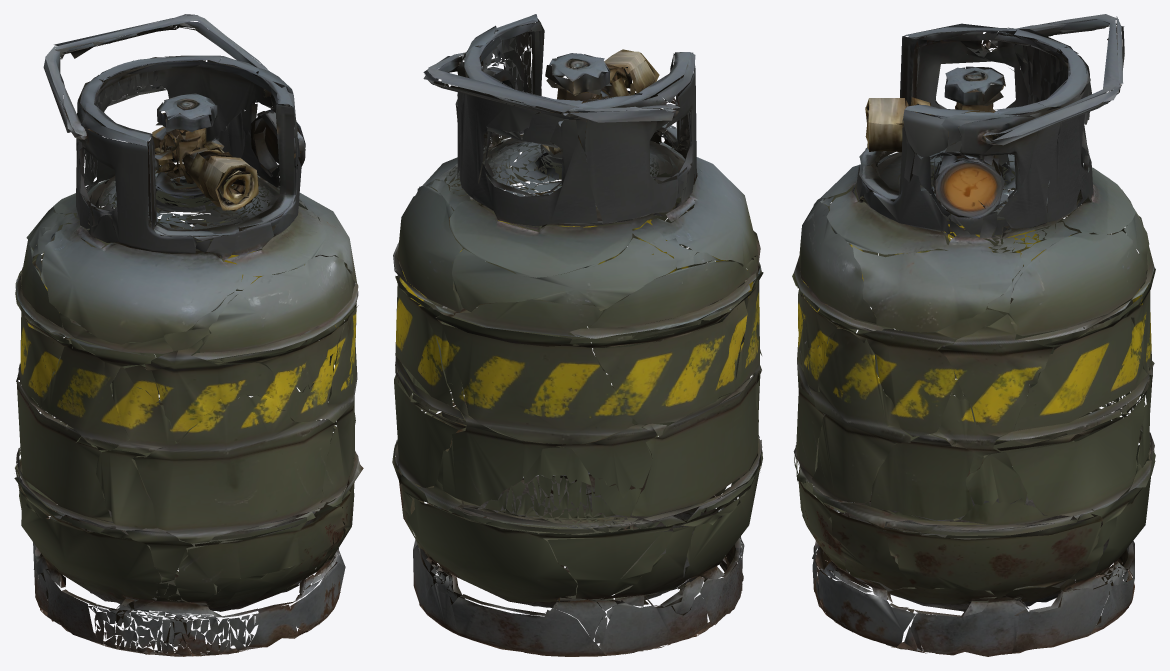
The model's file is weapon_fuel_canister_heavy.glb.
3 views of the same model, side by side, from view 1: azimuth 30°, elevation 25°; view 2: azimuth 150°, elevation 25°; view 3: azimuth 270°, elevation 25° (orthographic). The views are drawn at different scales.
Visible parts, largest first — view 1: node_0; view 2: node_0; view 3: node_0.
Boxes of the visible parts, x1,y1,x2,y2 form: node_0: (14,14,363,656); node_0: (392,14,763,656); node_0: (792,14,1155,656).
Bounding box in the file's own units: 0.643 × 1.06 × 0.6451.
1 material, 1 textured.
